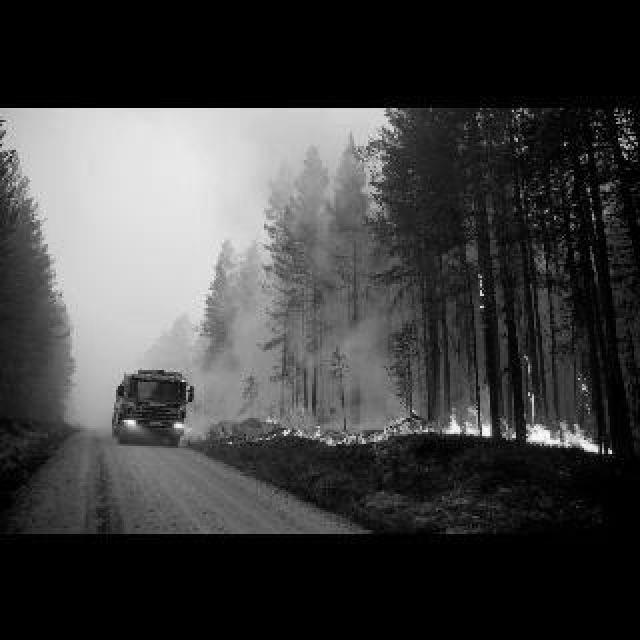Fire: (244, 388, 624, 464), (574, 372, 590, 408), (526, 350, 536, 386), (478, 262, 484, 296)
Smoke: (270, 312, 410, 420)
